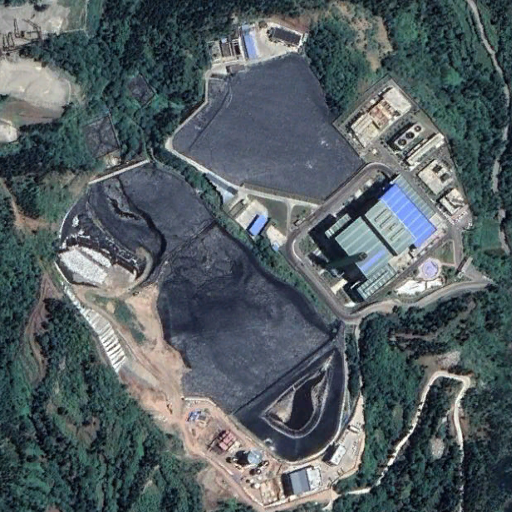lf: (57, 158, 333, 412), (168, 47, 365, 206)
